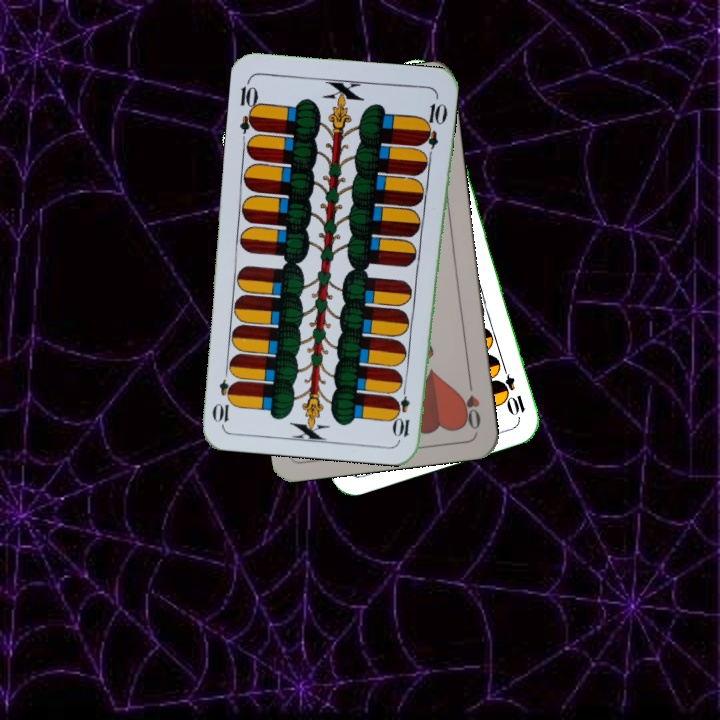E10: (494, 360, 528, 418), (236, 76, 262, 135), (393, 380, 413, 439)
HO: (458, 374, 483, 432)
